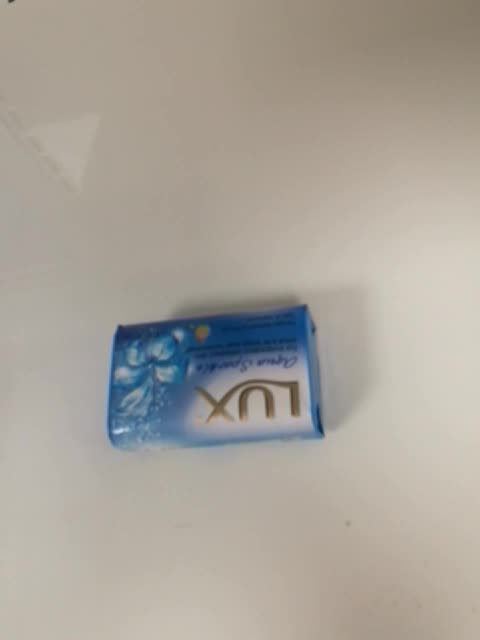soap: (101, 301, 328, 453)
